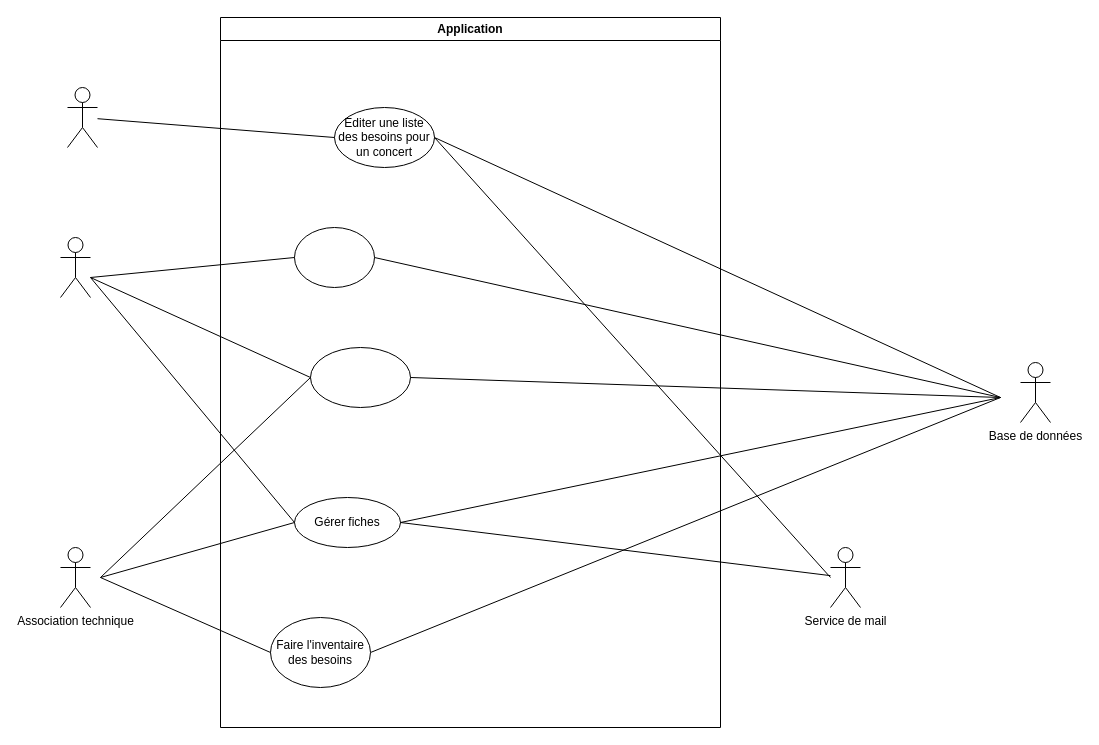
Some shapes in this 1099 by 745 pixel diagram are drawn without their labels. Each missing label, with the centre of its shape:
"Artiste" goes at (x=82, y=117).
"Association bien-être" goes at (x=75, y=267).
"Créer concert" goes at (x=334, y=257).
"Se connecter" goes at (x=360, y=377).
